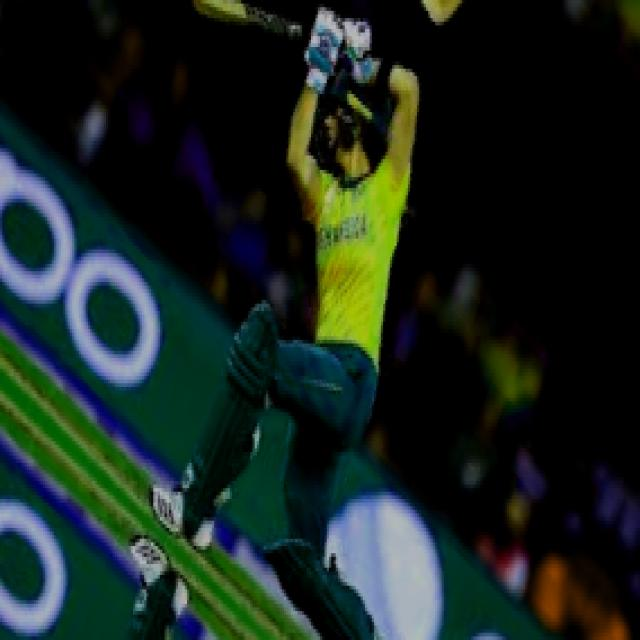toe: (191, 0, 218, 14)
